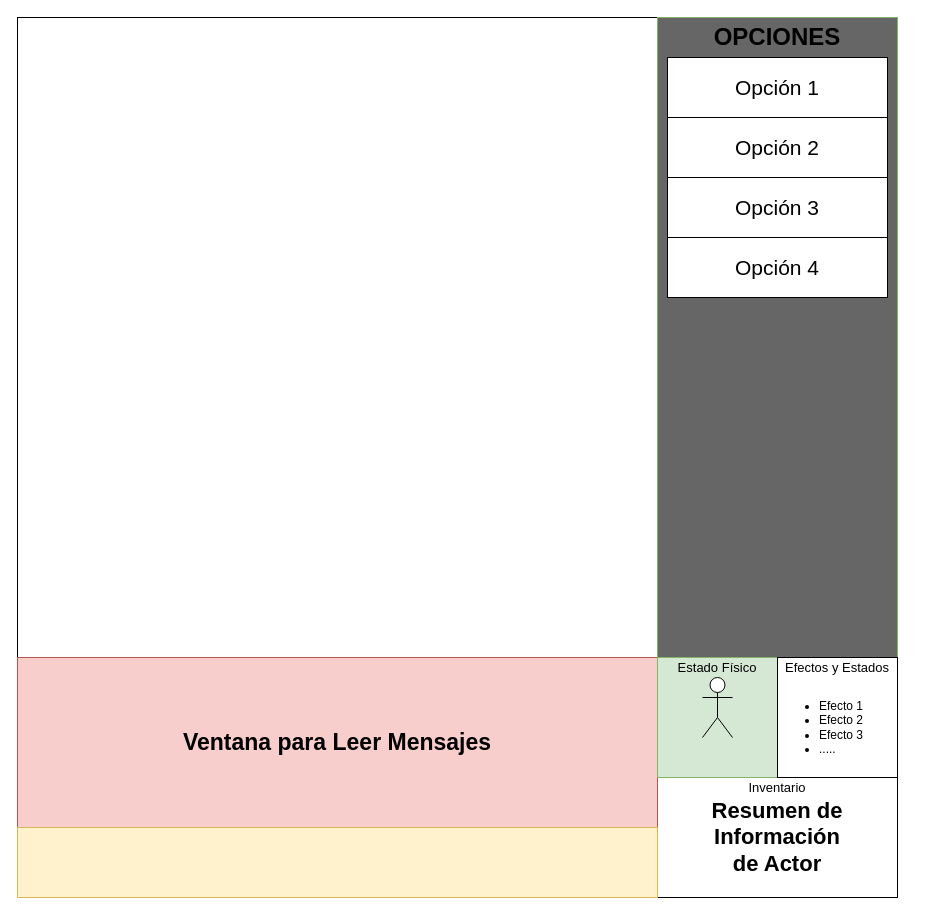
Image size: 925x915. Some labels were removed from this diagram. The shapes that lost their labels are listed below. From the top down, each one's centre as x and y in pixels, then its label:
At [337,337]: "GUI MAPA/REPRESENTACIÓN".
At [337,862]: "Ventana para Escribir Mensajes".
